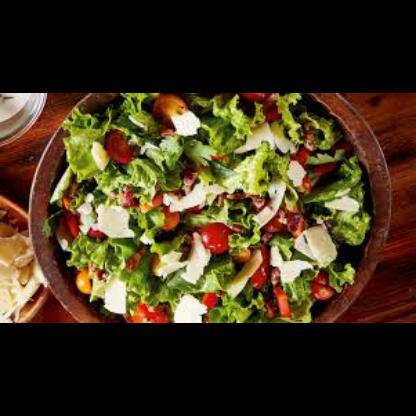salad: (43, 95, 371, 324)
